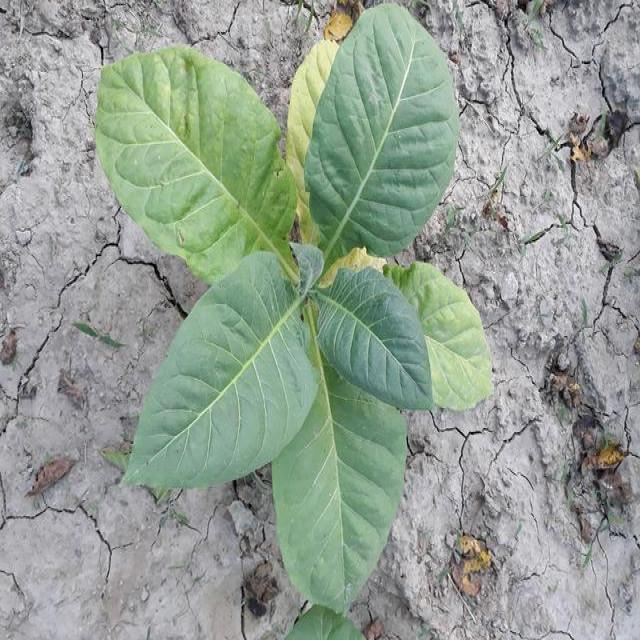crop: (104, 3, 499, 609)
